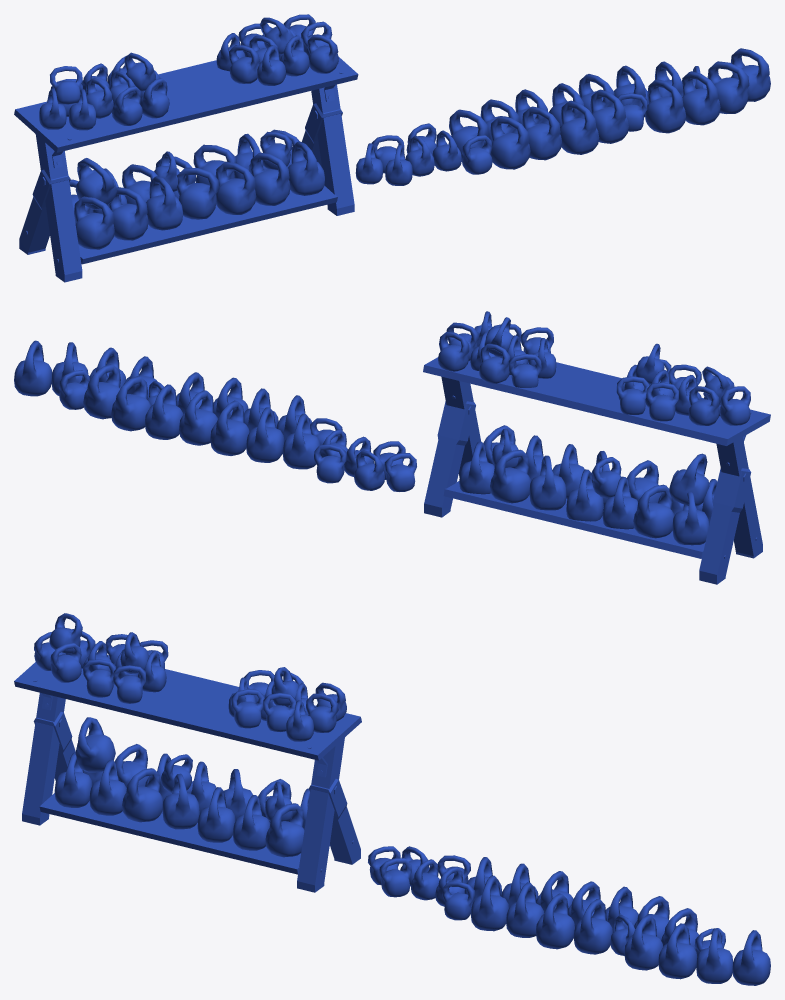
Rendered from FREE_LowPoly_Crossfit_-_Kettlebell.glb.
3 views of the same model, one above another, from view 1: azimuth 30°, elevation 25°; view 2: azimuth 150°, elevation 25°; view 3: azimuth 330°, elevation 25° (orthographic).
Visible parts, largest first — view 1: Cube.018_plaque_0, Cube.018_acier_0, Cube.020_poids_rose_0, Cube.018_poids_vert_0, Cube.018_poids_rouge_0, Cube.020_poids_gris_0, Cube.018_poids_trou_0, Cube.018_poids_gris_0, Cube.018_poids_rose_0, Cube.018_poids_bleu_0, Cube.020_poids_bleu_0, Cube.020_poids_rouge_0 (+4 smaller); view 2: Cube.018_plaque_0, Cube.018_acier_0, Cube.020_poids_rouge_0, Cube.018_poids_rouge_0, Cube.018_poids_bleu_0, Cube.020_poids_bleu_0, Cube.018_poids_trou_0, Cube.018_poids_rose_0, Cube.018_poids_vert_0, Cube.020_poids_jaune_0, Cube.020_poids_rose_0, Cube.018_poids_gris_0 (+4 smaller); view 3: Cube.018_plaque_0, Cube.018_acier_0, Cube.020_poids_rose_0, Cube.018_poids_vert_0, Cube.018_poids_bleu_0, Cube.018_poids_rose_0, Cube.020_poids_gris_0, Cube.018_poids_trou_0, Cube.018_poids_gris_0, Cube.018_poids_rouge_0, Cube.020_poids_rouge_0, Cube.020_poids_bleu_0 (+4 smaller).
Part boxes in pixels (box(x1,y1,x2,y2)): Cube.018_plaque_0: box(14, 56, 358, 264); Cube.018_acier_0: box(19, 84, 354, 282); Cube.020_poids_rose_0: box(644, 48, 770, 133); Cube.018_poids_vert_0: box(39, 66, 148, 240); Cube.018_poids_rouge_0: box(215, 23, 290, 214); Cube.020_poids_gris_0: box(490, 100, 599, 169); Cube.018_poids_trou_0: box(155, 17, 309, 199); Cube.018_poids_gris_0: box(122, 151, 219, 230); Cube.018_poids_rose_0: box(260, 14, 338, 195); Cube.018_poids_bleu_0: box(69, 52, 169, 249); Cube.020_poids_bleu_0: box(448, 89, 548, 174); Cube.020_poids_rouge_0: box(549, 61, 706, 127); Cube.018_plaque_0: box(423, 357, 770, 558); Cube.018_acier_0: box(424, 376, 762, 584); Cube.020_poids_rouge_0: box(59, 364, 218, 445); Cube.018_poids_rouge_0: box(479, 335, 584, 503); Cube.018_poids_bleu_0: box(616, 343, 717, 545); Cube.020_poids_bleu_0: box(210, 400, 342, 469); Cube.018_poids_trou_0: box(484, 317, 603, 521); Cube.018_poids_rose_0: box(438, 311, 518, 494); Cube.018_poids_vert_0: box(658, 366, 750, 515); Cube.020_poids_jaune_0: box(314, 436, 416, 491); Cube.020_poids_rose_0: box(14, 340, 160, 398); Cube.018_poids_gris_0: box(591, 451, 661, 529); Cube.018_plaque_0: box(14, 652, 361, 874); Cube.018_acier_0: box(22, 692, 360, 892); Cube.020_poids_rose_0: box(624, 914, 770, 985); Cube.018_poids_vert_0: box(34, 613, 126, 815); Cube.018_poids_bleu_0: box(54, 632, 168, 807); Cube.018_poids_rose_0: box(265, 682, 346, 857); Cube.020_poids_gris_0: box(471, 875, 574, 949); Cube.018_poids_trou_0: box(186, 667, 301, 820); Cube.018_poids_gris_0: box(122, 753, 199, 829); Cube.018_poids_rouge_0: box(197, 670, 303, 850); Cube.020_poids_rouge_0: box(568, 881, 725, 956); Cube.020_poids_bleu_0: box(442, 857, 573, 920).
Bounding box in the file's own units: 1.76 × 0.4477 × 0.2076.
